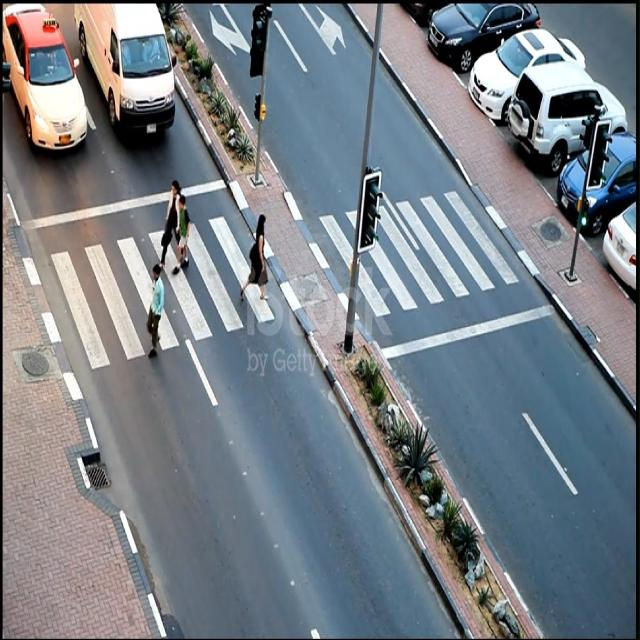pedestrian: (241, 215, 267, 299), (160, 180, 181, 266), (147, 264, 164, 356), (179, 194, 189, 262)
